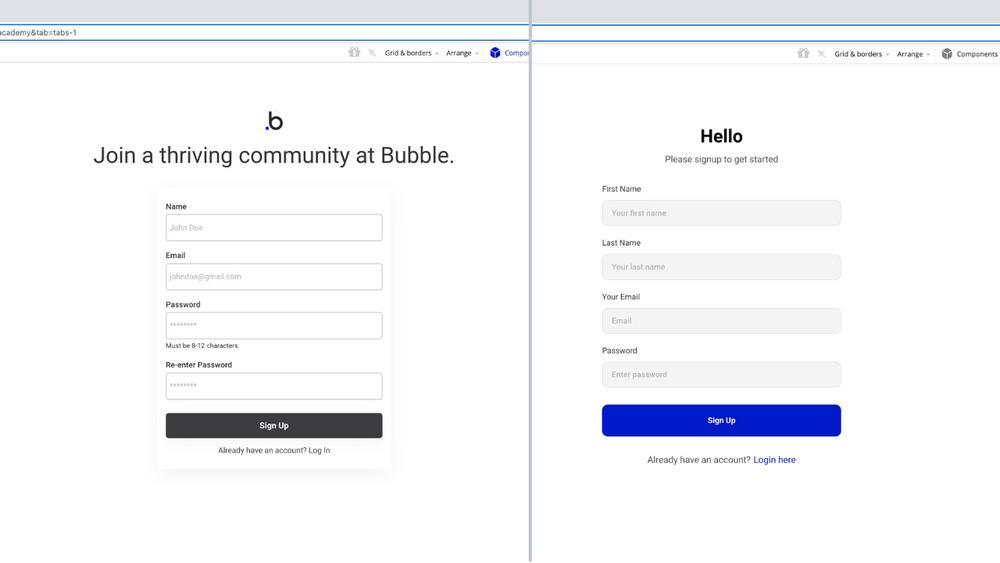button: (602, 405, 843, 437), (166, 414, 385, 441)
icon: (793, 47, 813, 62), (941, 47, 957, 64), (345, 47, 363, 62), (816, 49, 832, 64), (490, 45, 504, 62), (366, 48, 380, 63)
input: (602, 198, 843, 231), (602, 306, 845, 337), (602, 252, 844, 283), (600, 361, 844, 391), (166, 371, 385, 404), (165, 213, 385, 245), (165, 263, 386, 293), (164, 312, 386, 341)
label: (165, 341, 241, 354), (166, 359, 234, 370), (603, 291, 643, 305), (602, 183, 645, 194), (600, 238, 642, 248), (601, 345, 639, 356), (165, 300, 202, 311), (166, 251, 189, 261), (166, 203, 188, 211)
